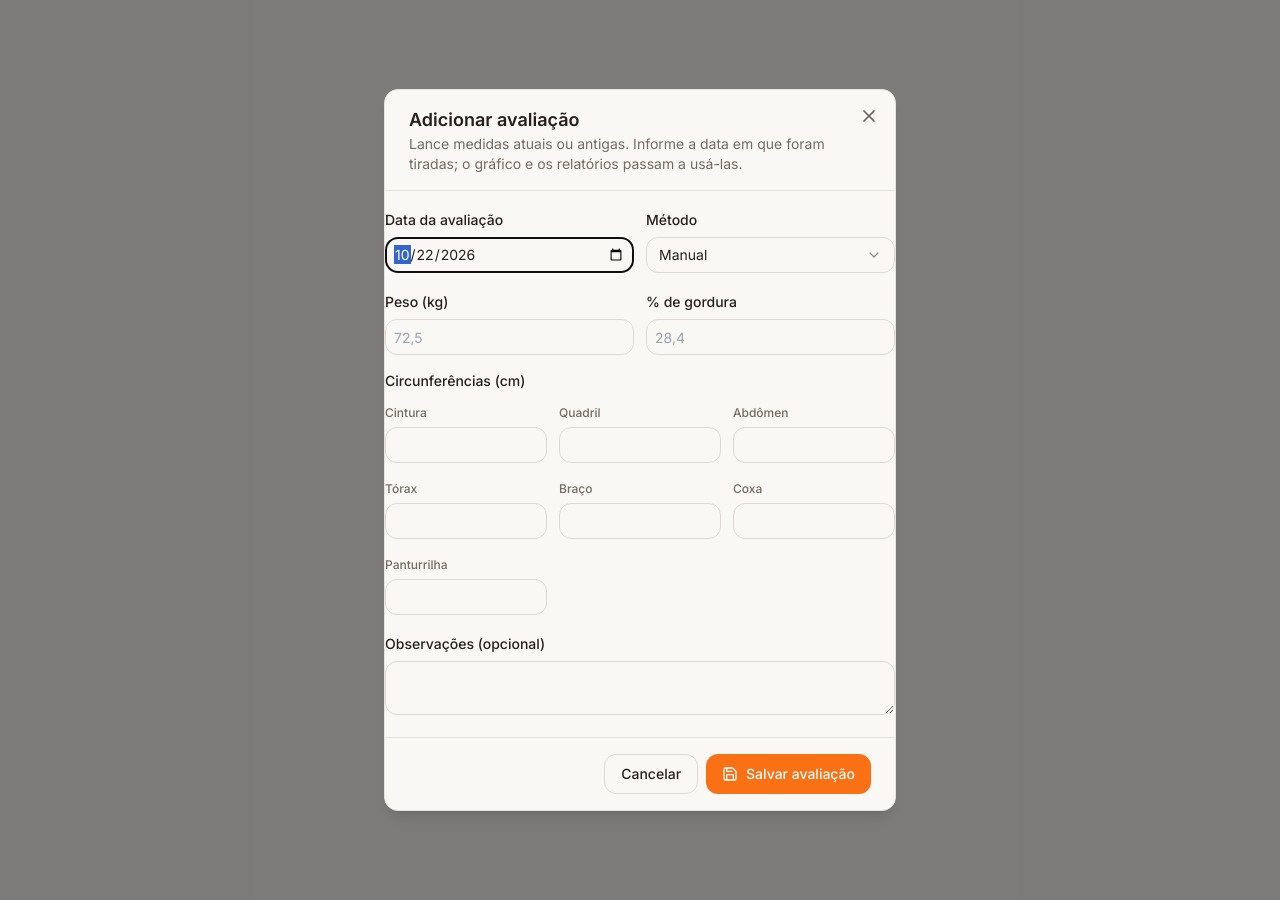
Test case: AssessmentDialog — medidas antigas › erro de permissão do servidor aparece traduzido e o diálogo continua aberto
This screenshot has width=1280, height=900.
Type "70" into the field labelled "Peso (kg)".
click(510, 337); type("70")  # box [385, 319, 634, 355]
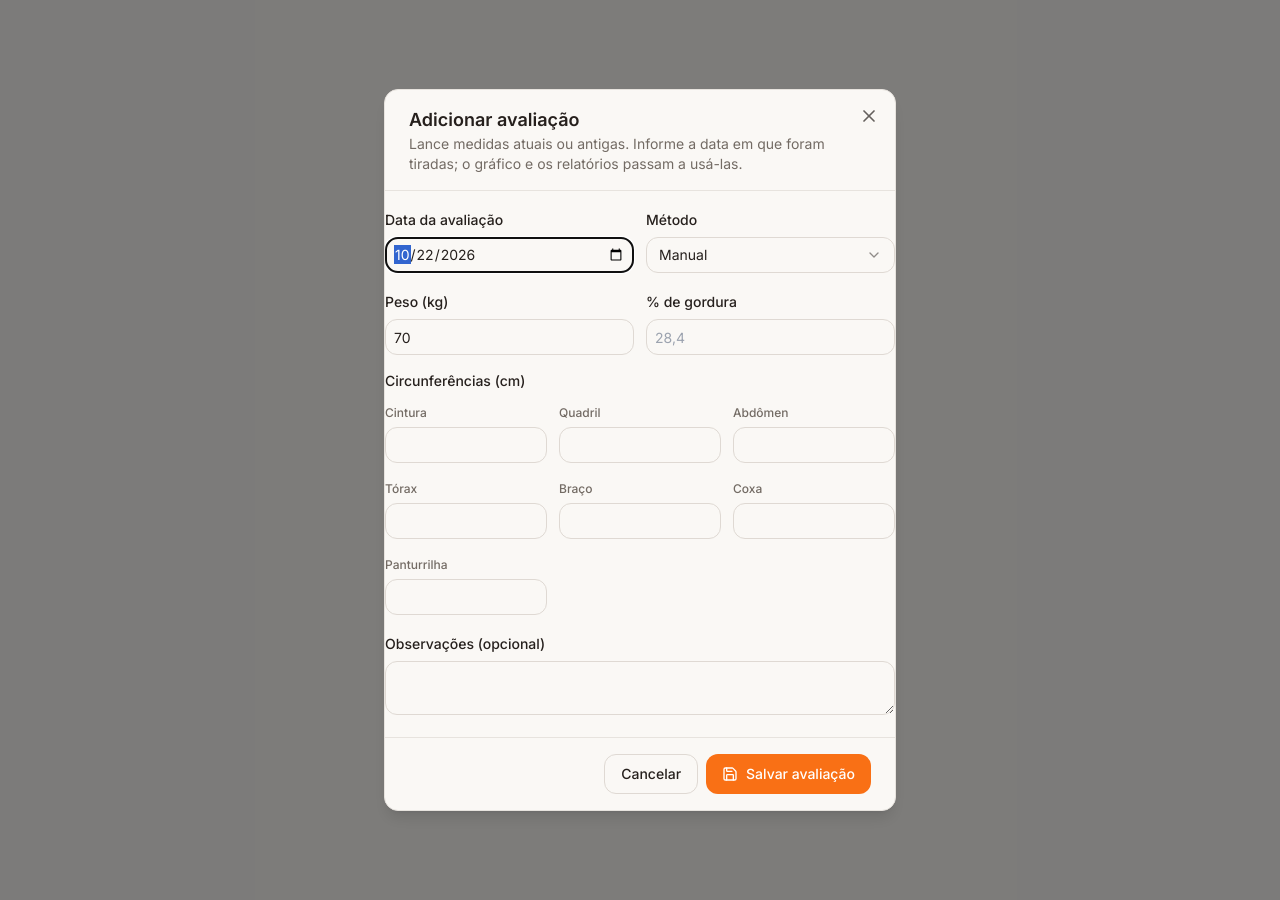
Click the button "Salvar avaliação".
click(789, 774)  # box [706, 754, 871, 794]
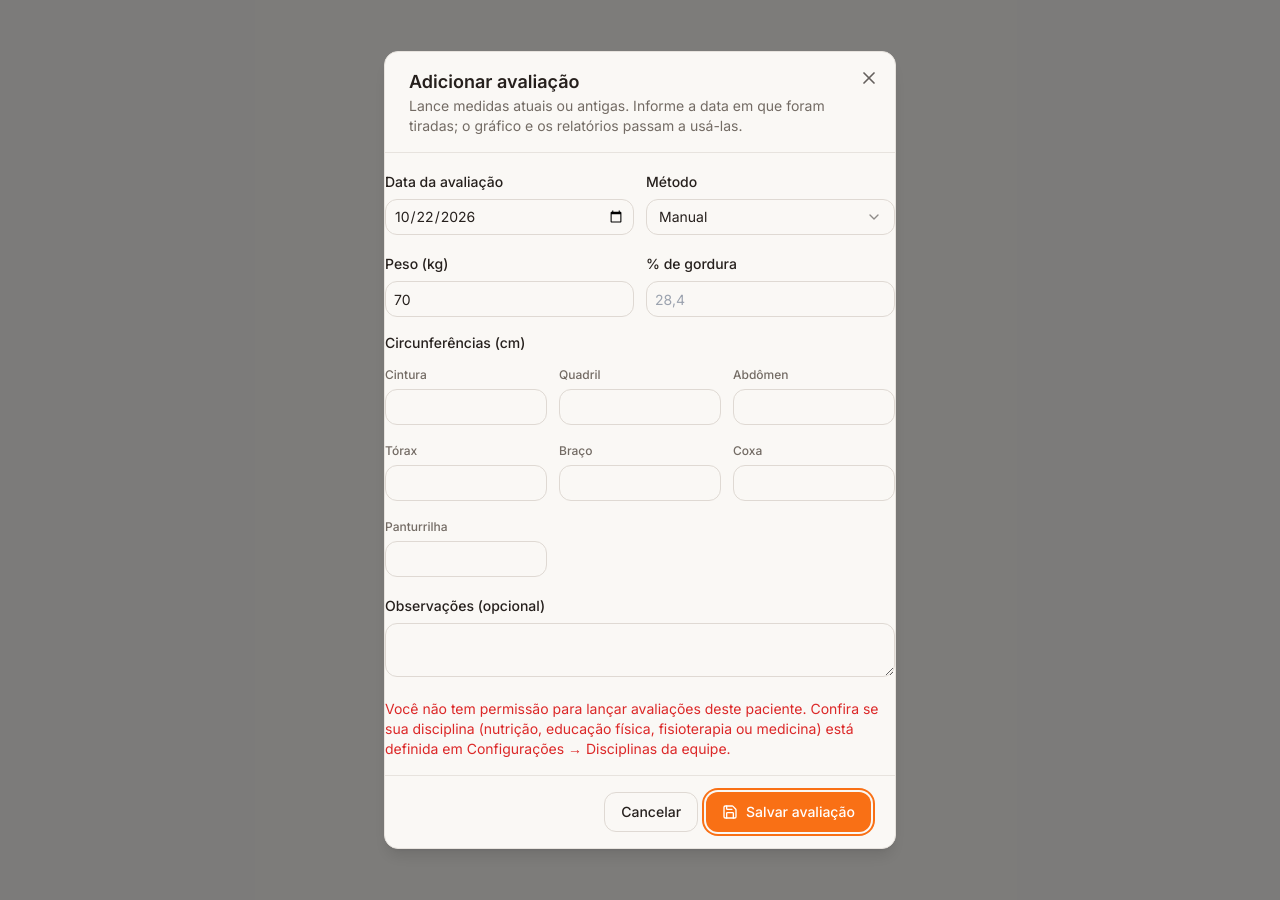
Expected: the message shows "não tem permissão", [385, 700, 878, 757]
